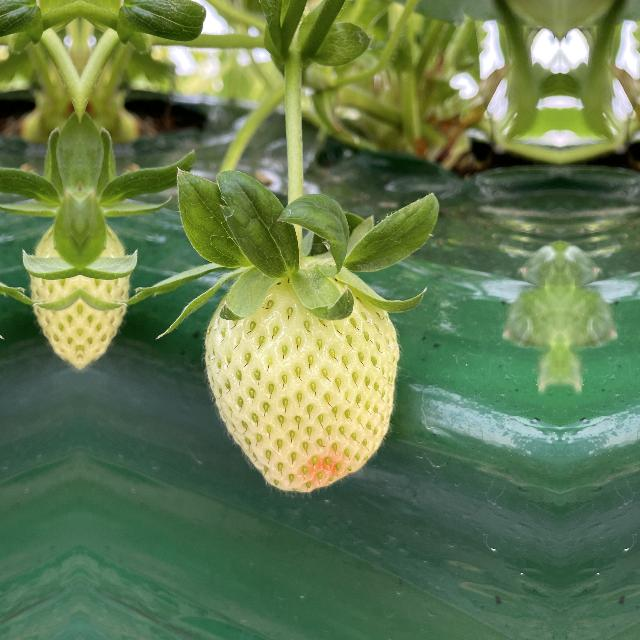Health_50: (202, 260, 408, 498)
